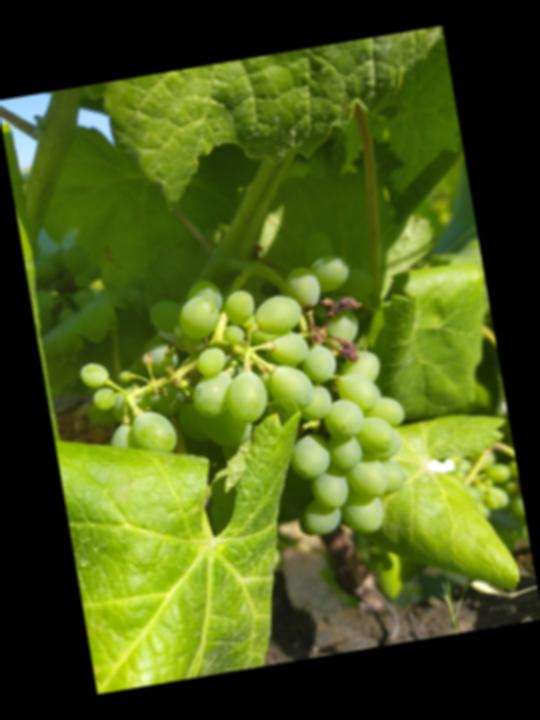grape: (61, 221, 430, 581)
